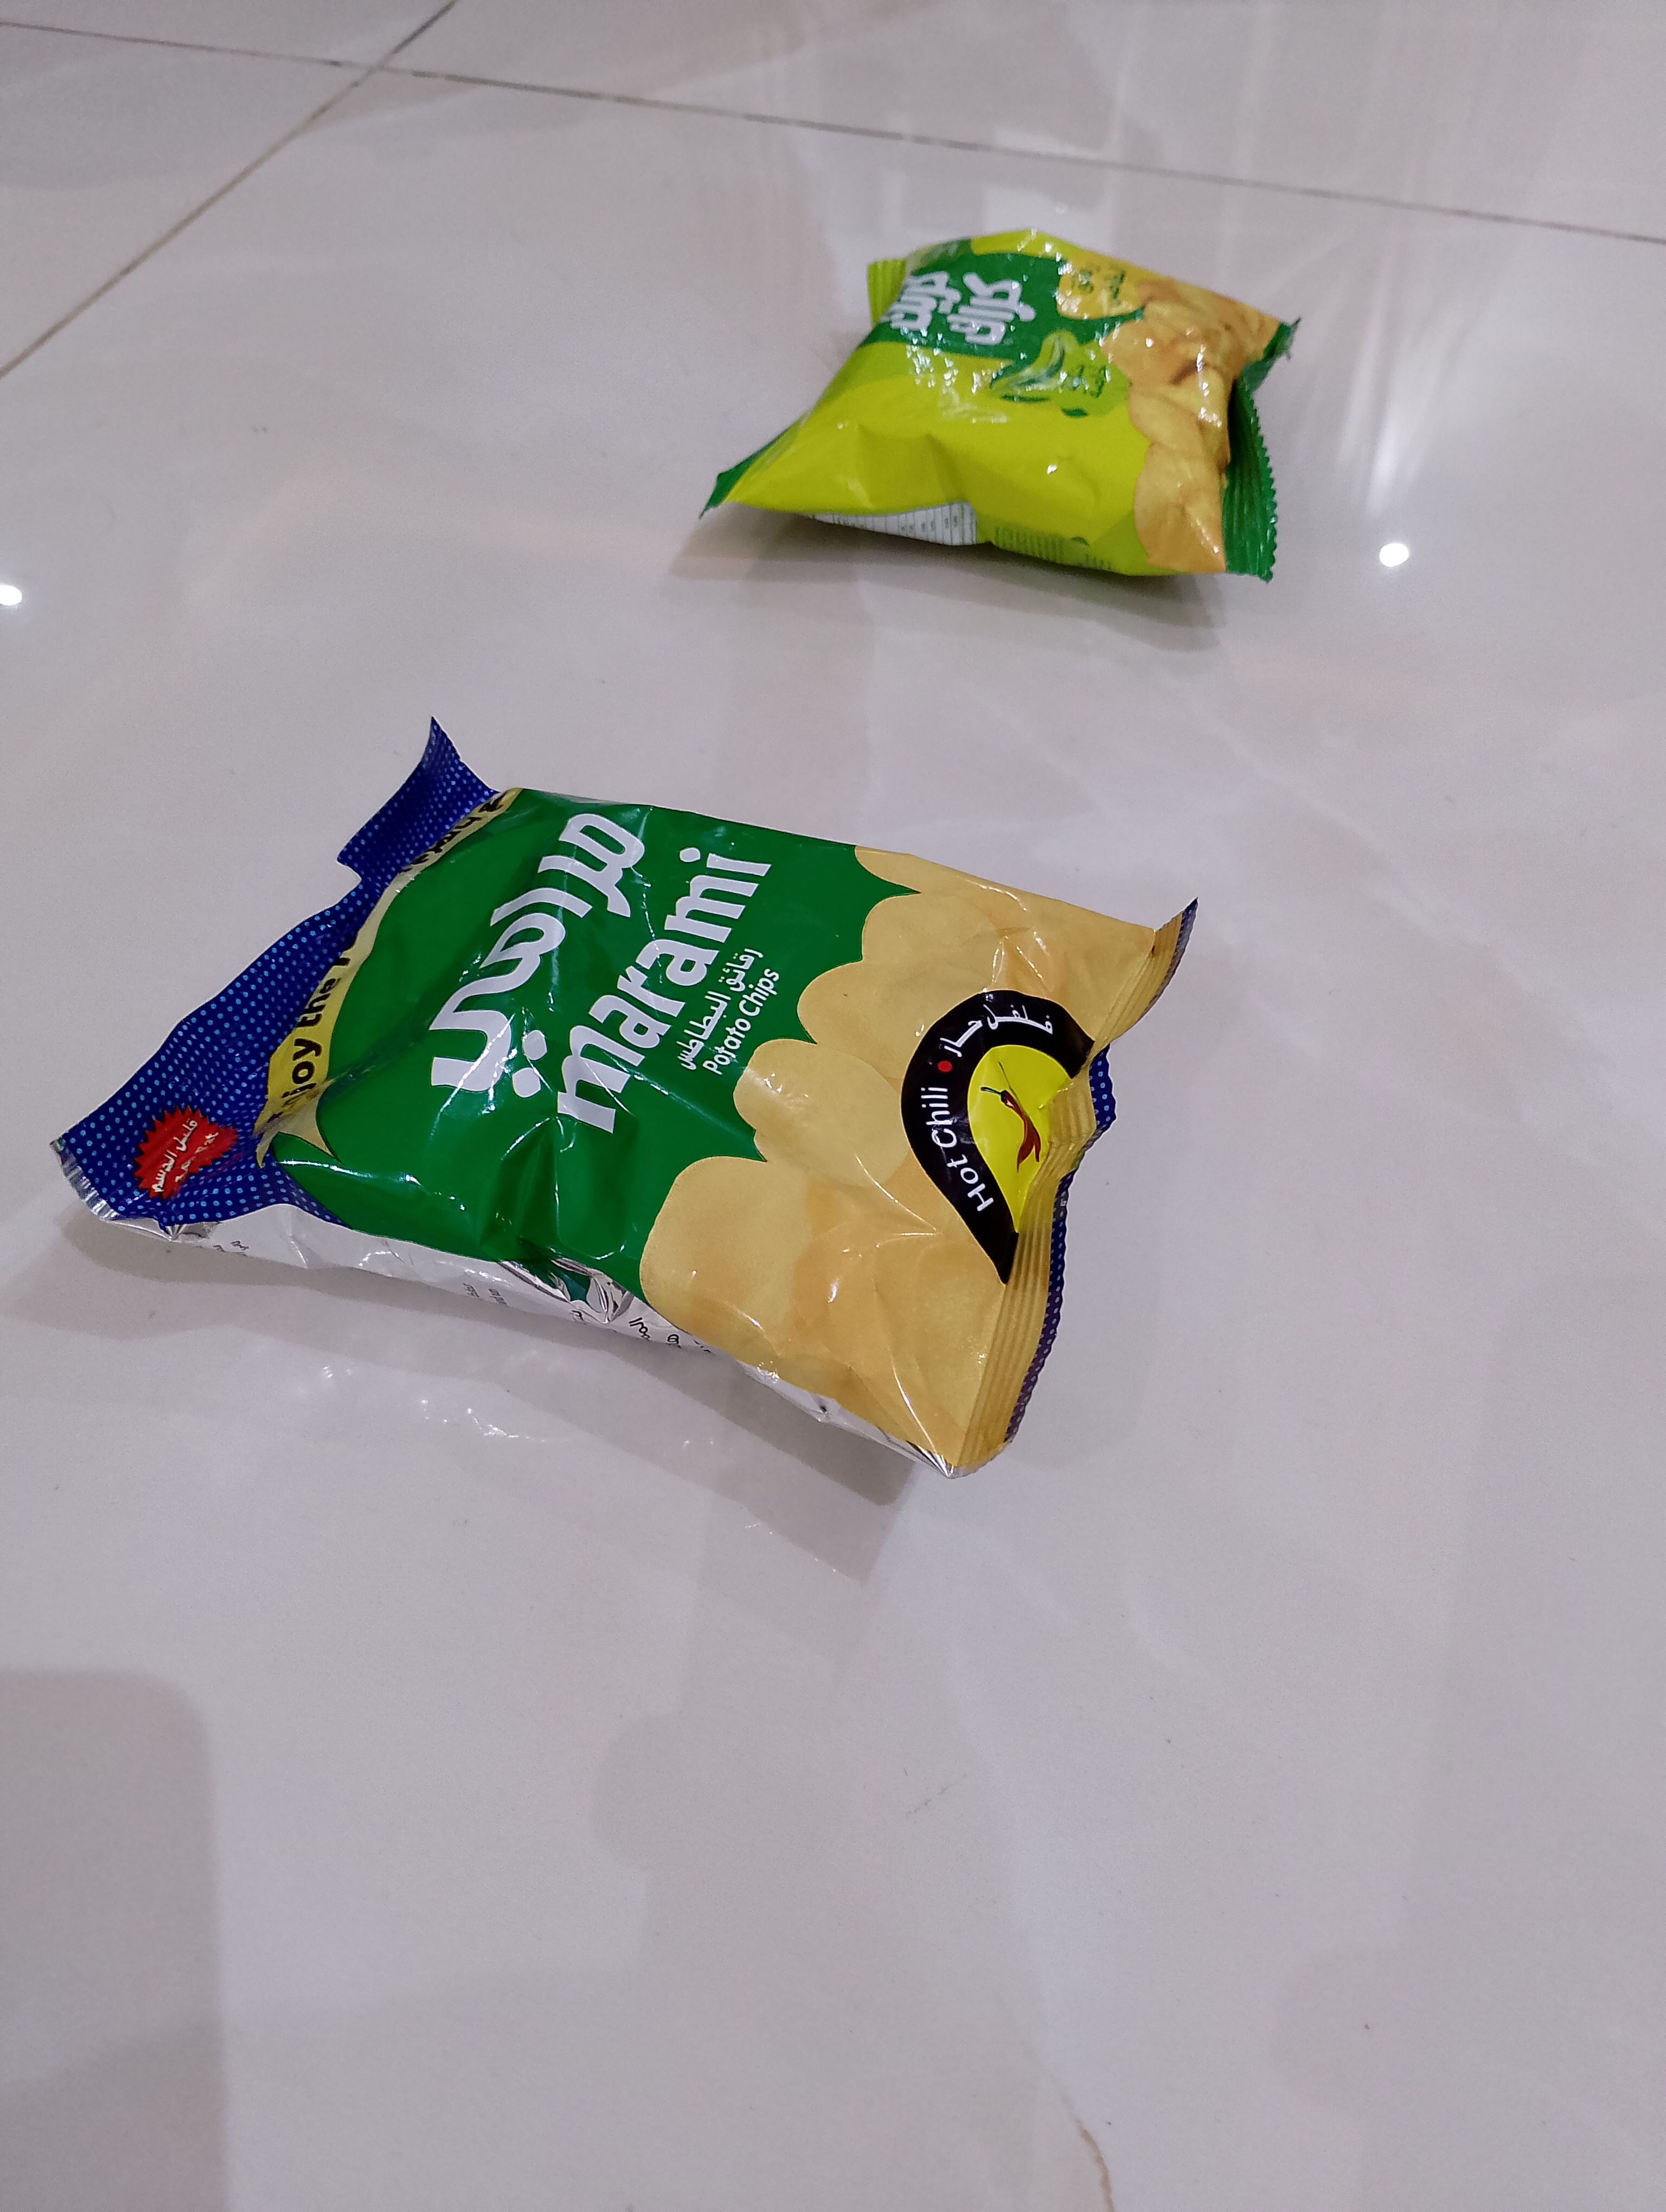cric_crac_special_flavour: (696, 227, 1304, 586)
marami_hot_chili: (45, 715, 1199, 1481)
